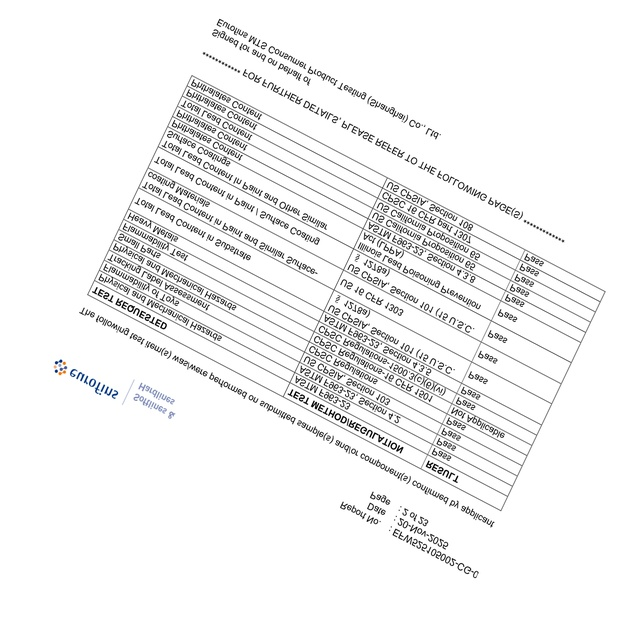eurofins: (51, 357, 121, 403)
